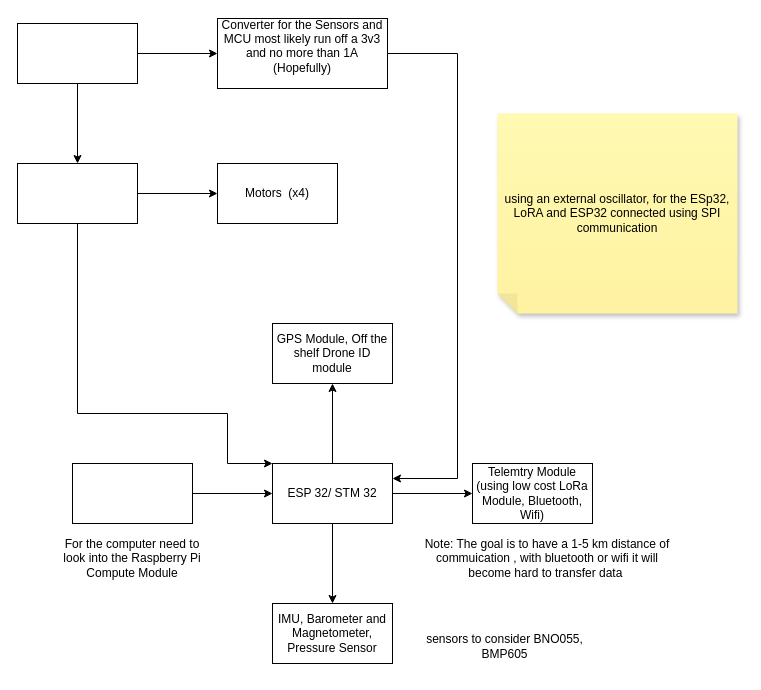
Some shapes in this 761 by 690 pixel diagram are drawn without their labels. The centre of each missing label's shape, as x and y in pixels:
"Battery plug for a 2s" goes at point (77, 53).
"Computer for processing power" goes at point (132, 493).
"ESC connection" goes at point (77, 193).
